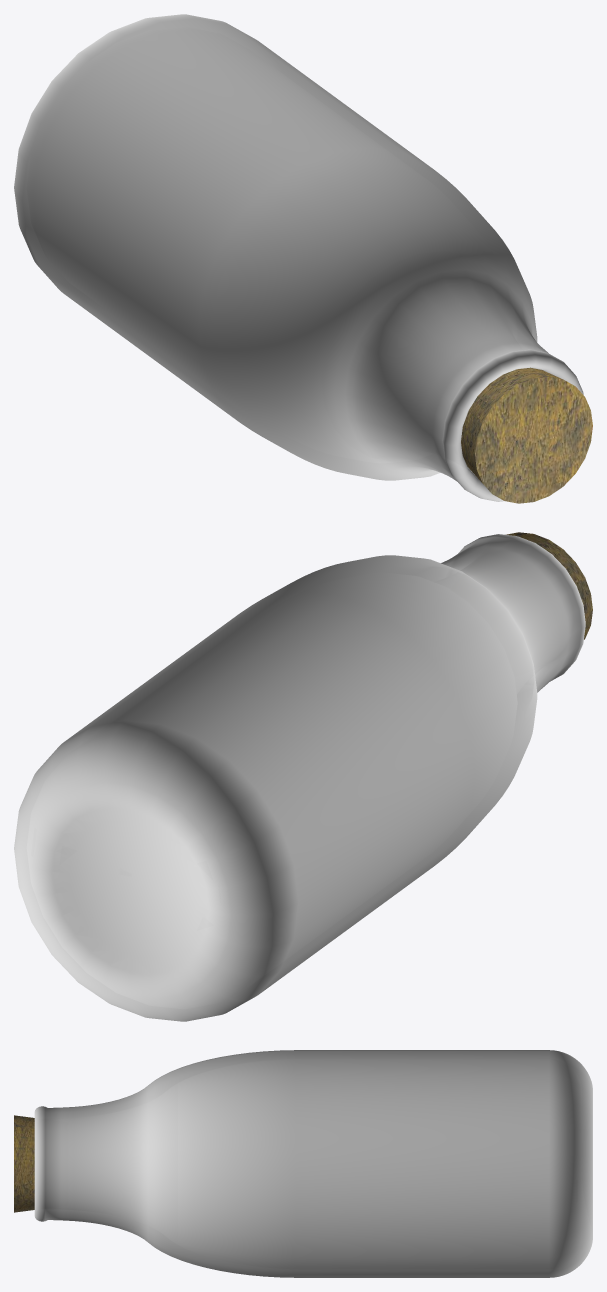
Rendered from model_scale.obj.
3 views of the same model, one above another, from view 1: azimuth 30°, elevation 25°; view 2: azimuth 150°, elevation 25°; view 3: azimuth 270°, elevation 25° (orthographic). The views are drawn at different scales.
Visible parts, largest first — view 1: mesh1_mesh1-geometry, mesh3_mesh3-geometry; view 2: mesh1_mesh1-geometry, mesh3_mesh3-geometry; view 3: mesh1_mesh1-geometry, mesh3_mesh3-geometry.
Part boxes in pixels (x1,y1,x2,y2): mesh1_mesh1-geometry: (14, 14, 583, 501); mesh3_mesh3-geometry: (461, 367, 592, 503); mesh1_mesh1-geometry: (14, 534, 585, 1021); mesh3_mesh3-geometry: (506, 532, 592, 639); mesh1_mesh1-geometry: (34, 1050, 592, 1277); mesh3_mesh3-geometry: (14, 1115, 34, 1212).
Size of the model in its own units: 0.1003 by 0.1003 by 0.254.
